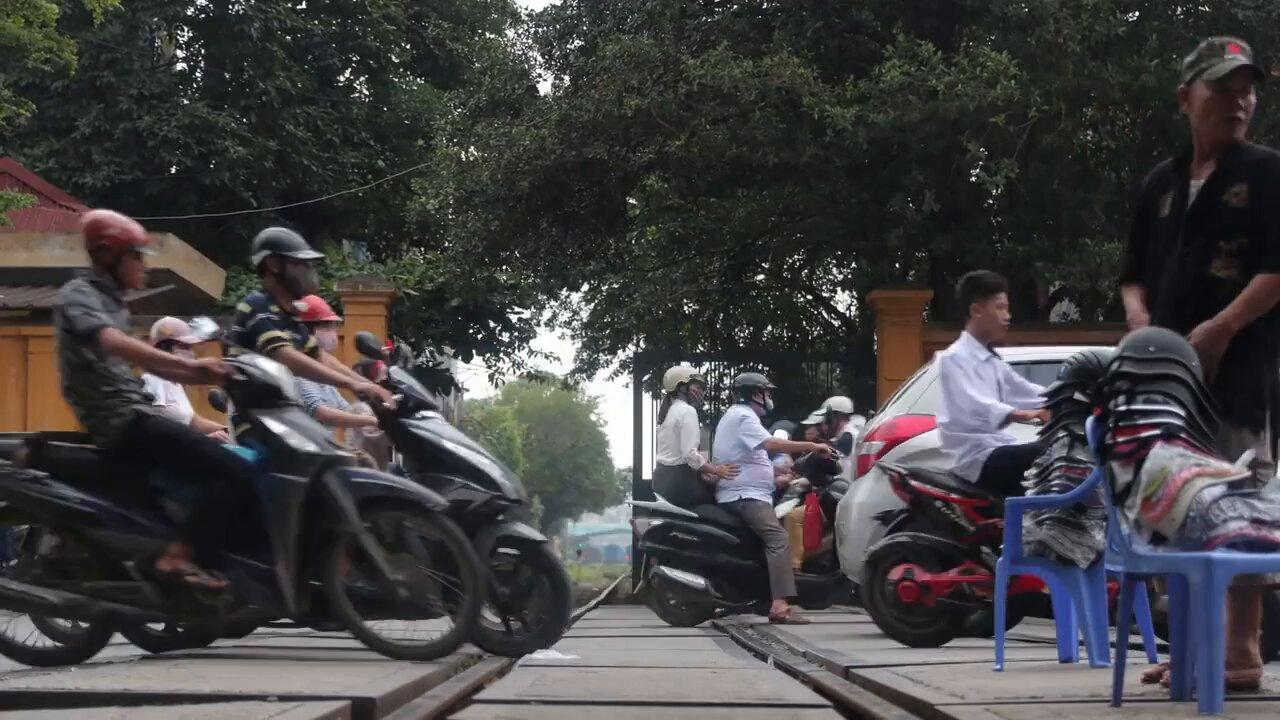driver: (0, 208, 485, 668), (862, 267, 1052, 650), (625, 363, 862, 625)
helmet: (79, 210, 157, 292), (252, 228, 328, 302), (732, 372, 777, 419), (663, 365, 709, 408)
no-helmet: (1179, 36, 1267, 140), (955, 270, 1013, 341)
